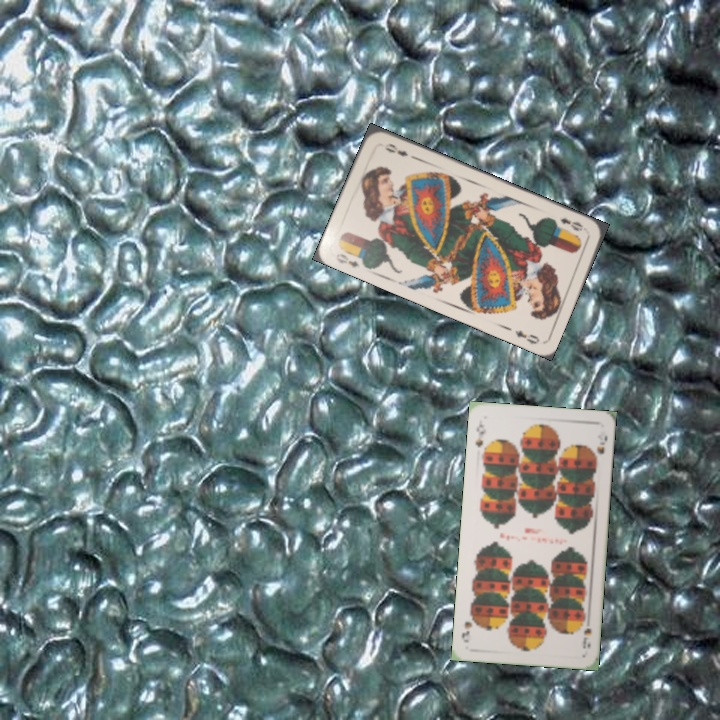EO: (556, 213, 586, 234), (332, 249, 361, 270)
S9: (471, 416, 488, 450), (579, 624, 594, 652)
